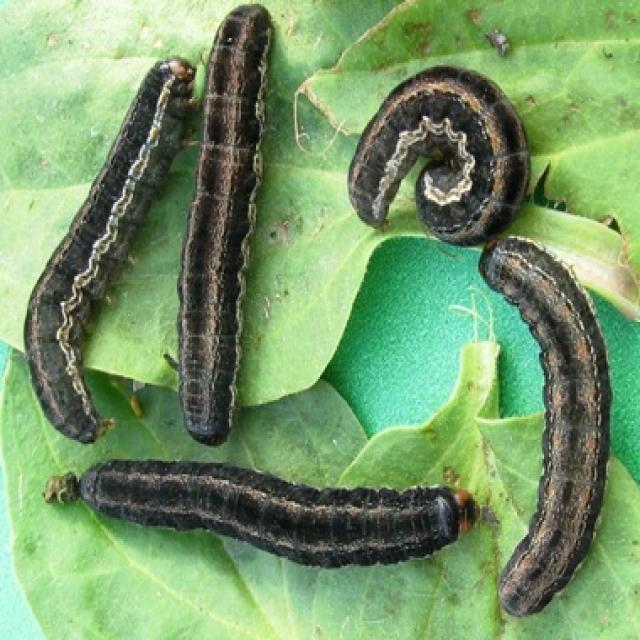worm: (21, 54, 200, 445), (478, 234, 612, 619), (42, 456, 480, 569), (170, 1, 276, 447), (344, 48, 533, 245)
